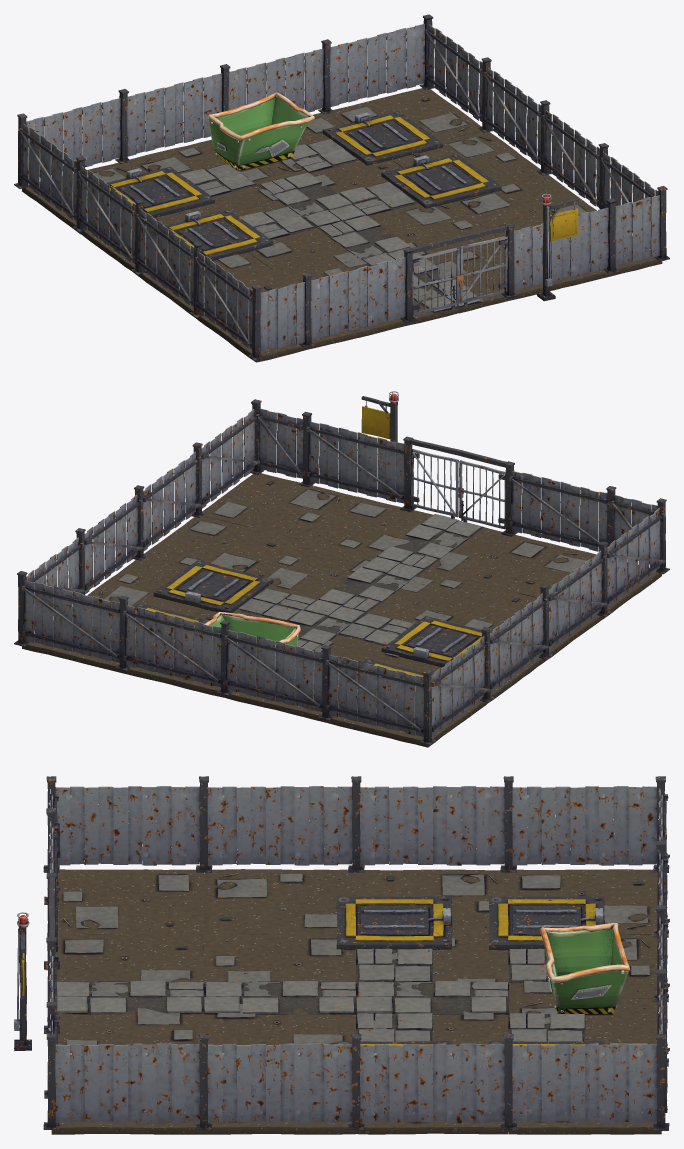
Rendered from YardLayout.glb.
3 renders of one model, top to bottom at view 1: azimuth 30°, elevation 25°; view 2: azimuth 150°, elevation 25°; view 3: azimuth 270°, elevation 25°, orthographic. The views are drawn at different scales.
Parts seen in each view (by area): view 1: FenceFront1_Sheets, FenceBack4_Sheets, FenceBack2_Sheets, FenceFront2_Sheets, FenceBack3_Sheets, FenceBack1_Sheets, Crate_Body, Tile14_Dirt, Tile10_Dirt, Tile6_Dirt, Tile16_Dirt, Pad3_Plate (+62 smaller); view 2: FenceBack4_Sheets, FenceBack3_Sheets, FenceBack2_Sheets, FenceBack1_Sheets, FenceFront2_Sheets, Tile13_Dirt, FenceFront1_Sheets, Tile14_Dirt, Tile5_Dirt, Tile9_Dirt, Tile10_Dirt, Tile6_Dirt (+60 smaller); view 3: FenceLeft2_Sheets, FenceLeft3_Sheets, FenceLeft4_Sheets, FenceRight4_Sheets, FenceRight2_Sheets, FenceRight3_Sheets, FenceRight1_Sheets, FenceLeft1_Sheets, Tile1_Dirt, Tile2_Dirt, Tile5_Dirt, Tile6_Dirt (+55 smaller).
Boxes of the visible parts, x1,y1,x2,y2 form: FenceFront1_Sheets: (311, 257, 405, 340); FenceBack4_Sheets: (330, 24, 424, 106); FenceBack2_Sheets: (127, 73, 222, 156); FenceFront2_Sheets: (514, 207, 608, 290); FenceBack3_Sheets: (228, 48, 323, 112); FenceBack1_Sheets: (26, 98, 120, 179); Crate_Body: (208, 97, 308, 171); Tile14_Dirt: (451, 174, 596, 237); Tile10_Dirt: (368, 202, 499, 256); Tile6_Dirt: (248, 228, 368, 286); Tile16_Dirt: (329, 88, 481, 140); Pad3_Plate: (381, 154, 501, 208); FenceBack4_Sheets: (24, 580, 119, 662); FenceBack3_Sheets: (125, 605, 221, 687); FenceBack2_Sheets: (227, 630, 322, 711); FenceBack1_Sheets: (328, 654, 423, 736); FenceFront2_Sheets: (309, 421, 404, 503); Tile13_Dirt: (202, 473, 356, 539); FenceFront1_Sheets: (512, 471, 607, 551); Tile14_Dirt: (144, 516, 297, 573); Tile5_Dirt: (426, 527, 560, 588); Tile9_Dirt: (299, 496, 432, 557); Tile10_Dirt: (252, 539, 373, 600); Tile6_Dirt: (367, 570, 502, 623); FenceLeft2_Sheets: (207, 786, 352, 865); FenceLeft3_Sheets: (360, 786, 504, 865); FenceLeft4_Sheets: (512, 786, 656, 865); FenceRight4_Sheets: (512, 1043, 657, 1123); FenceRight2_Sheets: (207, 1043, 352, 1123); FenceRight3_Sheets: (360, 1043, 504, 1123); FenceRight1_Sheets: (55, 1043, 200, 1123); FenceLeft1_Sheets: (55, 786, 200, 865); Tile1_Dirt: (57, 869, 204, 934); Tile2_Dirt: (204, 869, 356, 934); Tile5_Dirt: (56, 933, 203, 981); Tile6_Dirt: (203, 933, 356, 981).
Size of the model in its own units: 32.89 by 8.09 by 34.45.
142 materials, 142 textured.
